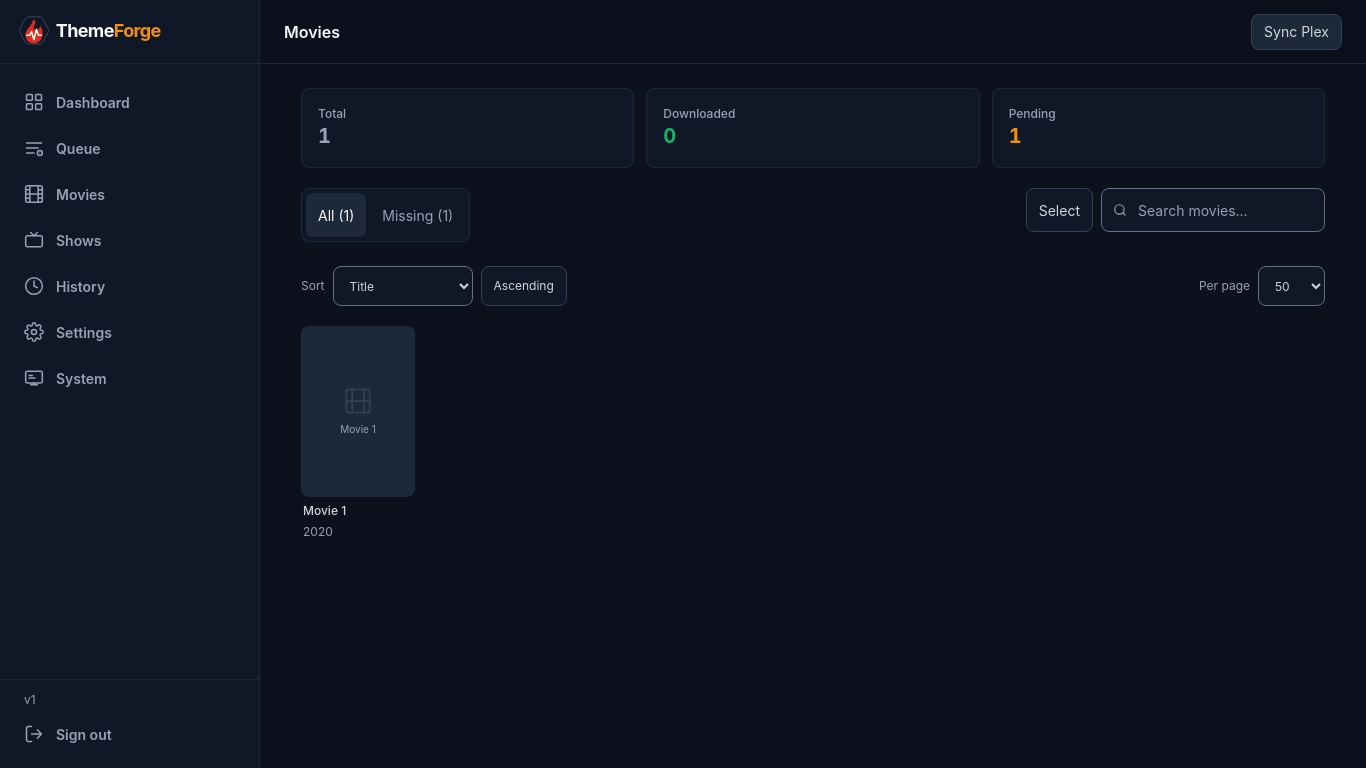
Test: an action that fails does not report success › the movies Sync button says so when the sync fails to start
Click the button "Sync Plex" at (1297, 32), box x1=1251 y1=14 x2=1342 y2=50
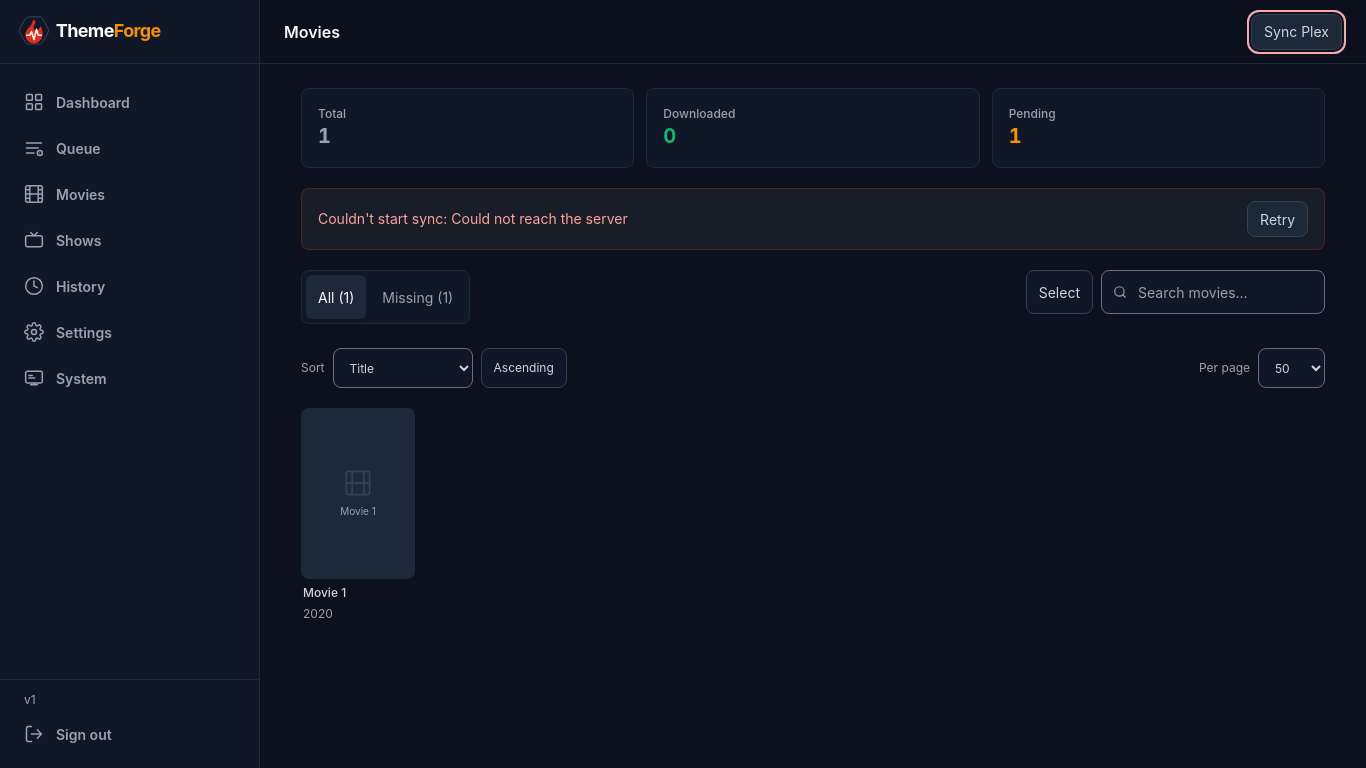
Expected: the text "Couldn't start sync: Could not reach the server" is shown, x1=318 y1=209 x2=628 y2=229
